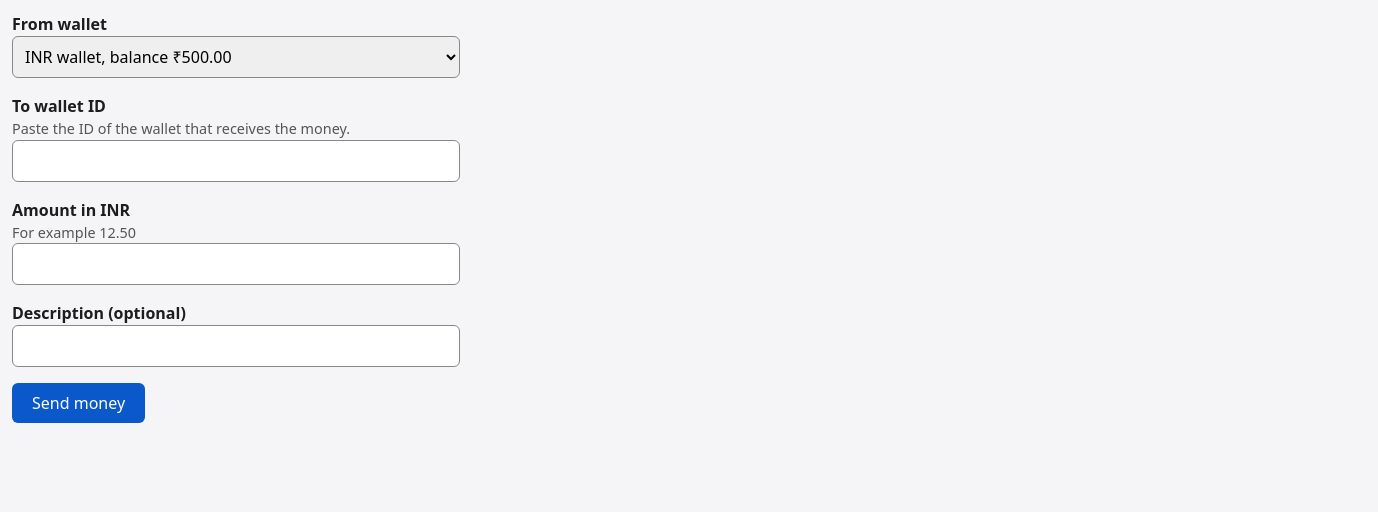
Test: TransferForm › sends the amount in minor units with an Idempotency-Key and shows the result
This screenshot has width=1378, height=512.
Type "22222222-2222-4222-8222-222222222222" into the field labelled "To wallet ID" at point(236, 161), box [12,140,460,182]
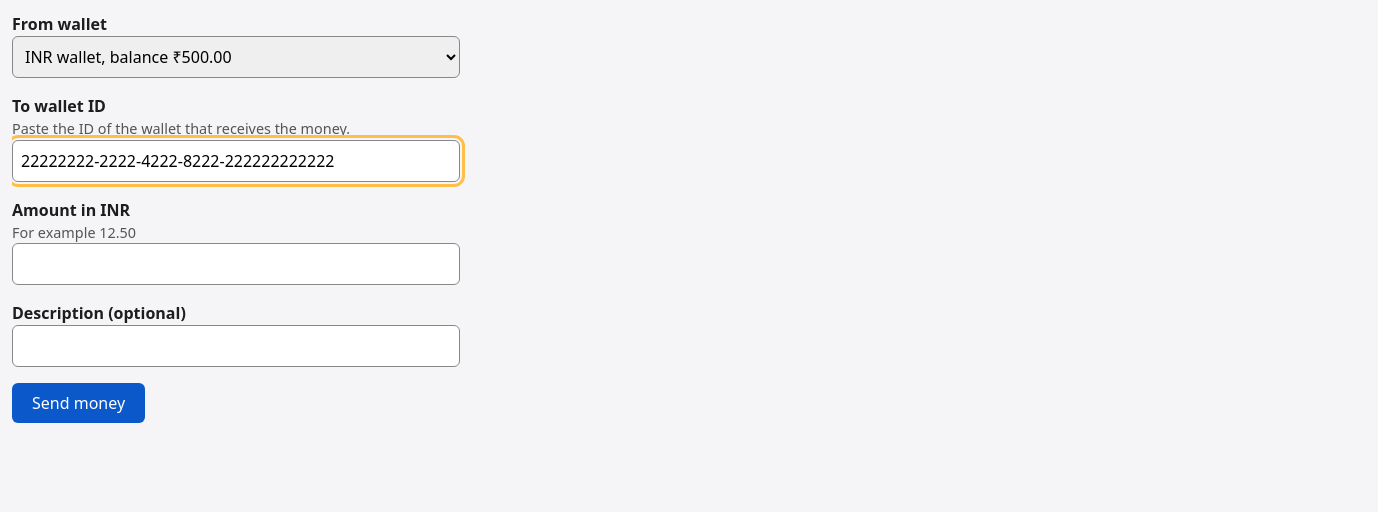
Type "12.50" into the field labelled "Amount in INR" at point(236, 264), box [12,243,460,285]
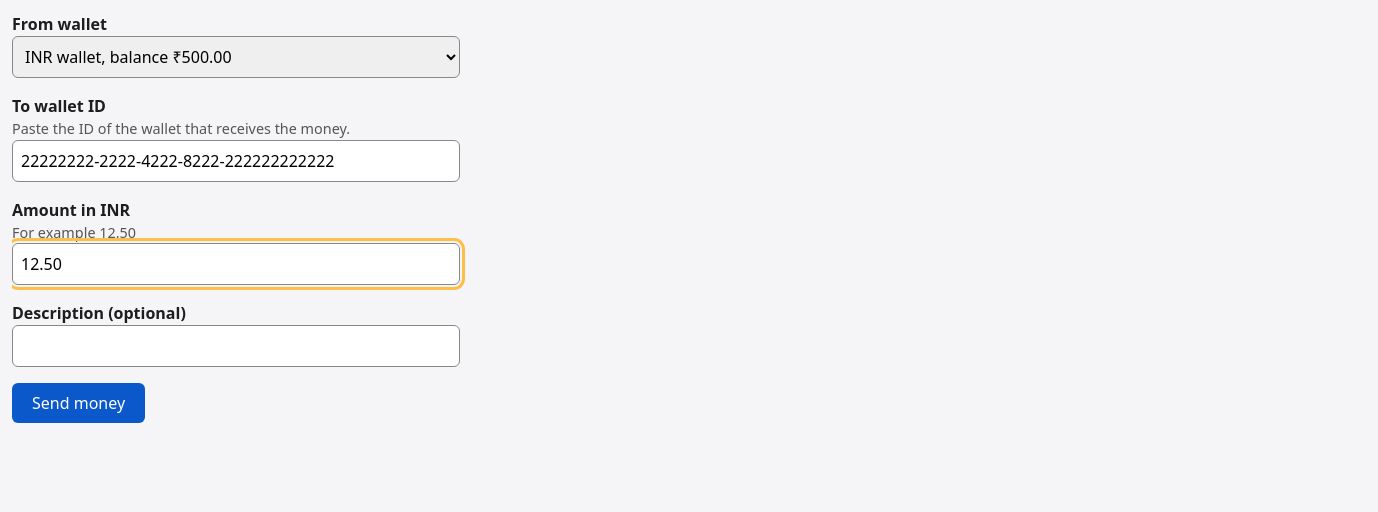
Click the button "Send money" at point(79, 403), box [12,383,145,423]
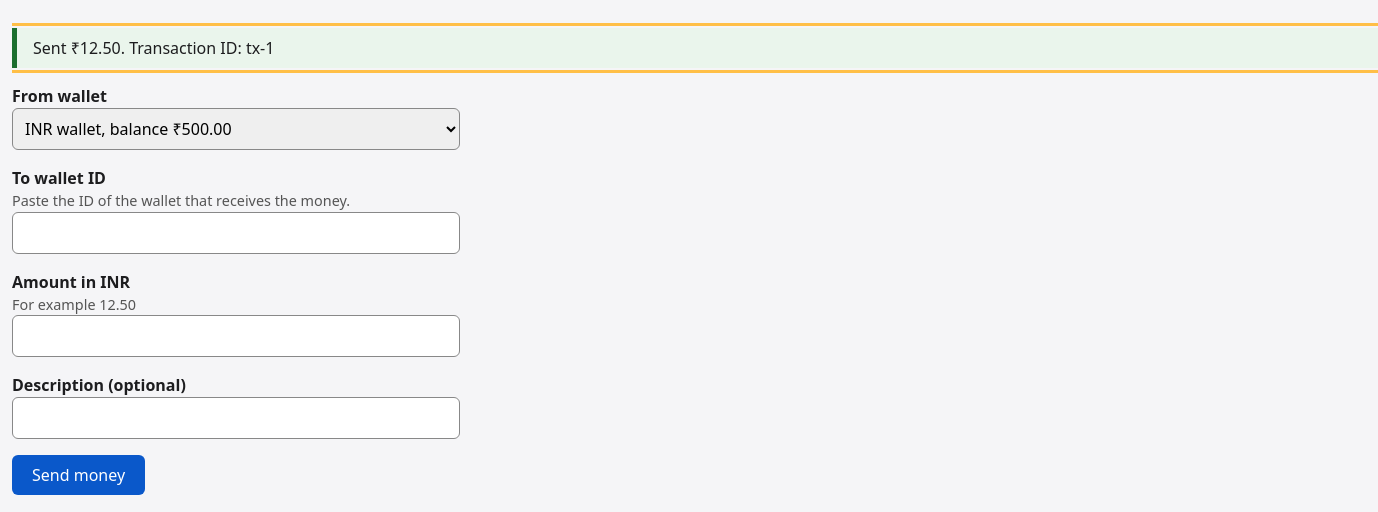
expect the message reads "Sent ₹12.50. Transaction ID: tx-1": met, box [33,37,274,59]
